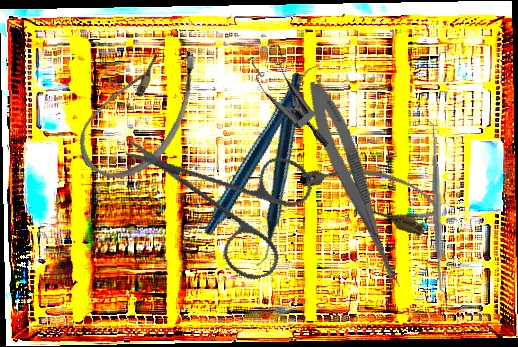Cannula: (67, 24, 214, 197), (294, 145, 444, 240)
Handpiece: (178, 71, 376, 267), (162, 63, 365, 237)
Iris Scissors: (122, 92, 334, 306)
Micro Scissor: (298, 75, 415, 294)
Spatula Surgical: (424, 118, 451, 299)
Speculum: (231, 35, 359, 149)
